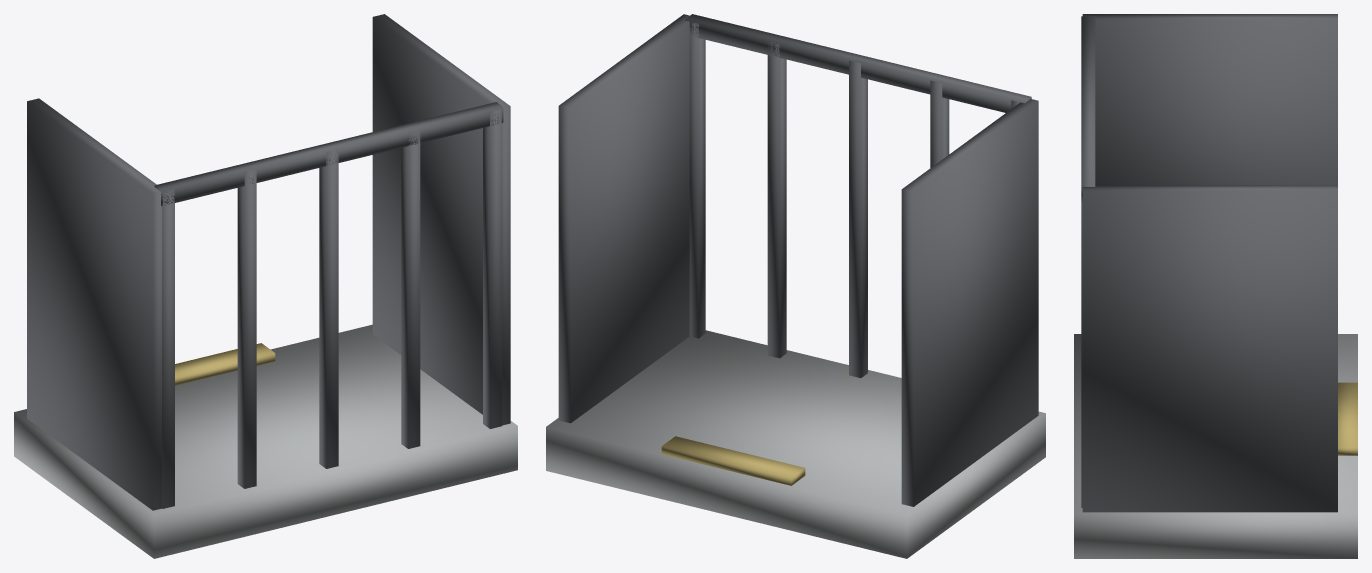
File: steel_w120_d80_door-or-window.glb
3 renders of one model, left to right at view 1: azimuth 30°, elevation 25°; view 2: azimuth 150°, elevation 25°; view 3: azimuth 270°, elevation 25°, orthographic. The views are drawn at different scales.
Visible parts, largest first — view 1: world; view 2: world; view 3: world.
Part boxes in pixels (<box>): world: <box>14,14,517,558</box>; world: <box>546,14,1045,558</box>; world: <box>1074,14,1357,558</box>.
Size of the model in its own units: 1.2 by 1.14 by 0.8.
